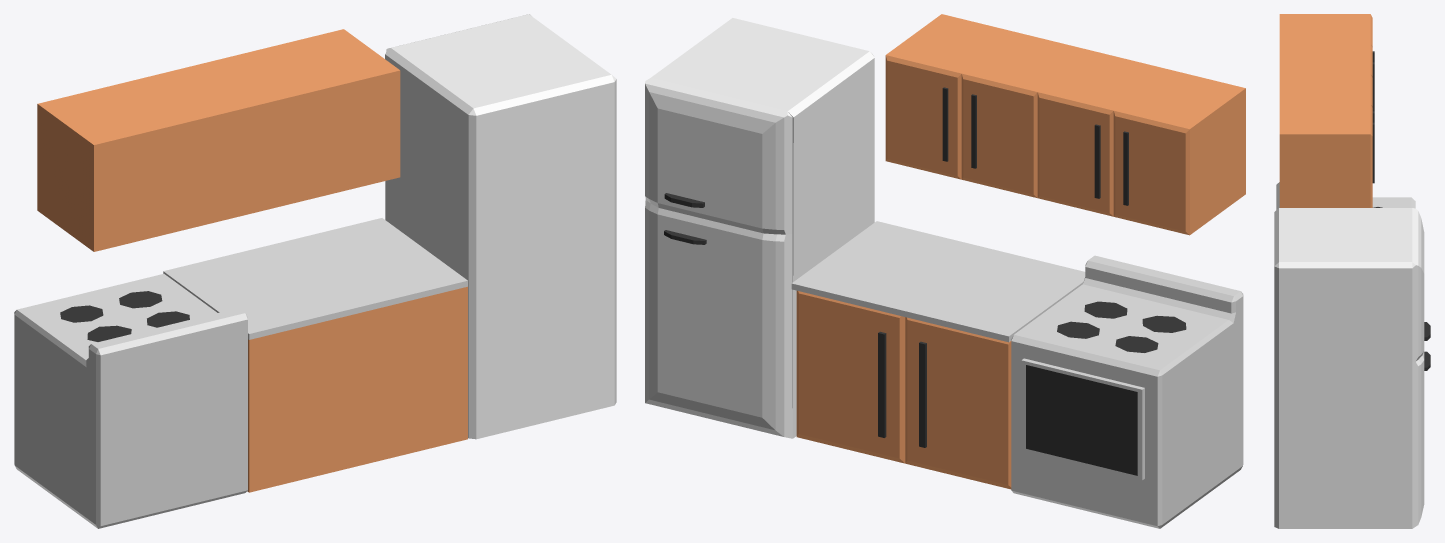
File: Kitchen.fbx
3 views of the same model, side by side, from view 1: azimuth 30°, elevation 25°; view 2: azimuth 150°, elevation 25°; view 3: azimuth 270°, elevation 25° (orthographic). The views are drawn at different scales.
Visible parts, largest first — view 1: KitchenFridge, KitchenCupboard1, KitchenStove, KitchenCupboard3, KitchenCupboard2; view 2: KitchenStove, KitchenDoor2, KitchenFridge, KitchenCupboard1, KitchenDoor1, KitchenDoor4, KitchenDoor3, KitchenCupboard3, KitchenDoor9, KitchenCupboard2, KitchenDoor5, KitchenDoor8 (+2 smaller); view 3: KitchenFridge, KitchenCupboard2, KitchenCupboard3, KitchenDoor2, KitchenDoor1, KitchenStove, KitchenDoor5, KitchenDoor8.
Boxes of the visible parts, x1=… form: KitchenFridge: x1=385, y1=14, x2=616, y2=439; KitchenCupboard1: x1=163, y1=218, x2=467, y2=492; KitchenStove: x1=14, y1=274, x2=247, y2=528; KitchenCupboard3: x1=37, y1=66, x2=247, y2=251; KitchenCupboard2: x1=191, y1=29, x2=400, y2=214; KitchenStove: x1=1011, y1=255, x2=1243, y2=528; KitchenDoor2: x1=645, y1=199, x2=792, y2=438; KitchenFridge: x1=651, y1=18, x2=874, y2=438; KitchenCupboard1: x1=791, y1=221, x2=1085, y2=342; KitchenDoor1: x1=645, y1=78, x2=792, y2=234; KitchenDoor4: x1=796, y1=290, x2=905, y2=463; KitchenDoor3: x1=905, y1=317, x2=1011, y2=489; KitchenCupboard3: x1=1038, y1=51, x2=1245, y2=234; KitchenDoor9: x1=1021, y1=358, x2=1144, y2=480; KitchenCupboard2: x1=886, y1=14, x2=1093, y2=91; KitchenDoor5: x1=885, y1=55, x2=961, y2=179; KitchenDoor8: x1=1037, y1=92, x2=1113, y2=216; KitchenFridge: x1=1274, y1=208, x2=1412, y2=528; KitchenCupboard2: x1=1279, y1=74, x2=1370, y2=207; KitchenCupboard3: x1=1279, y1=14, x2=1370, y2=74; KitchenDoor2: x1=1412, y1=351, x2=1430, y2=528; KitchenDoor1: x1=1412, y1=208, x2=1430, y2=362; KitchenStove: x1=1276, y1=182, x2=1415, y2=209; KitchenDoor5: x1=1370, y1=105, x2=1374, y2=207; KitchenDoor8: x1=1370, y1=44, x2=1374, y2=111.
Size of the model in its own units: 2.83 by 0.9086 by 1.99.
